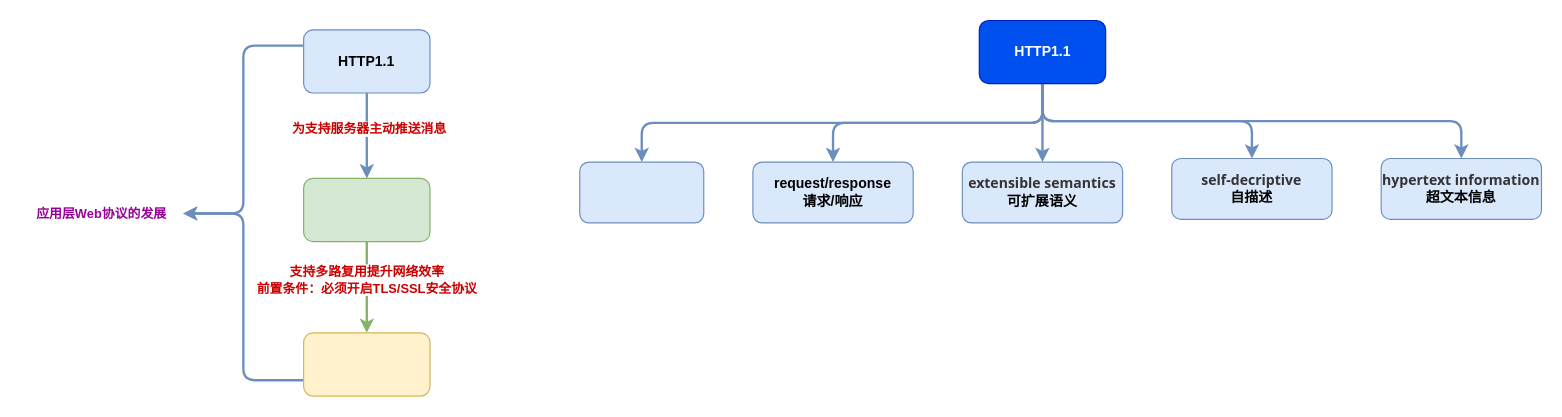
Some shapes in this 1562 by 417 pixel diagram are drawn without their labels. Each missing label, with the centre of its shape:
HTTP2.0: point 366,364
Stateless 无状态: point 641,192
WebSocket: point 366,209
